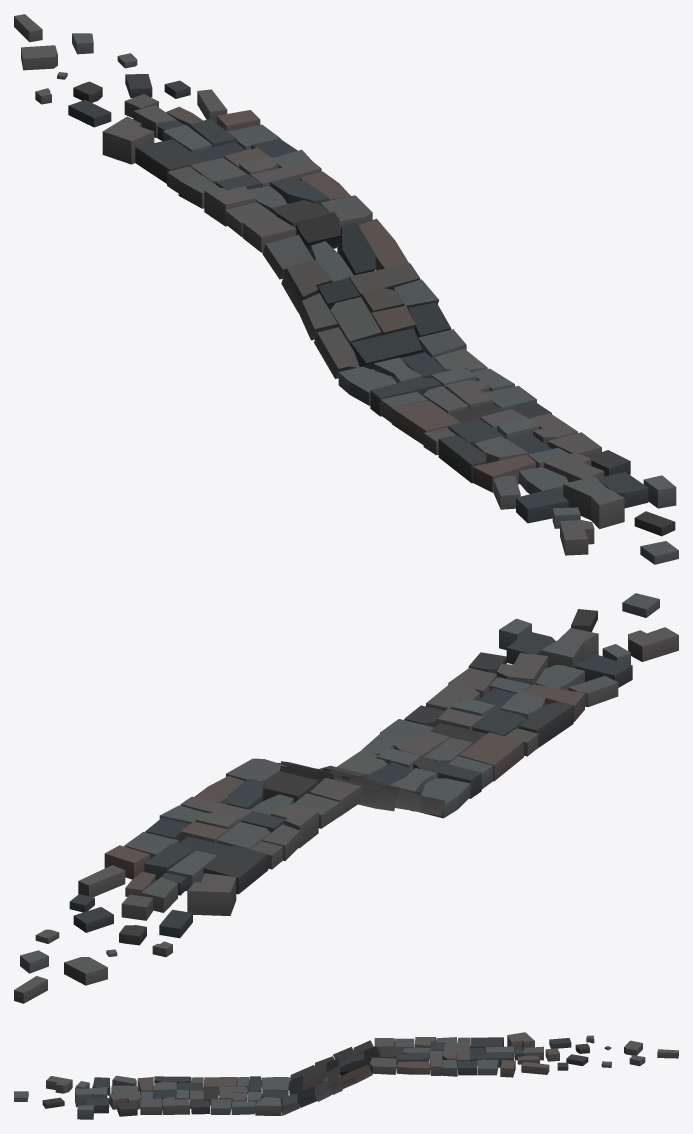
File: ruins_road_002.glb
3 views of the same model, one above another, from view 1: azimuth 30°, elevation 25°; view 2: azimuth 150°, elevation 25°; view 3: azimuth 270°, elevation 25° (orthographic). The views are drawn at different scales.
Parts seen in each view (by area): view 1: ruins_road_002; view 2: ruins_road_002; view 3: ruins_road_002.
Boxes of the visible parts, <box> form: ruins_road_002: <box>14,14,678,564</box>; ruins_road_002: <box>14,593,678,1003</box>; ruins_road_002: <box>14,1032,678,1119</box>.
Size of the model in its own units: 4.77 by 3.04 by 35.27.
Materials: 1 (1 with a texture image).
